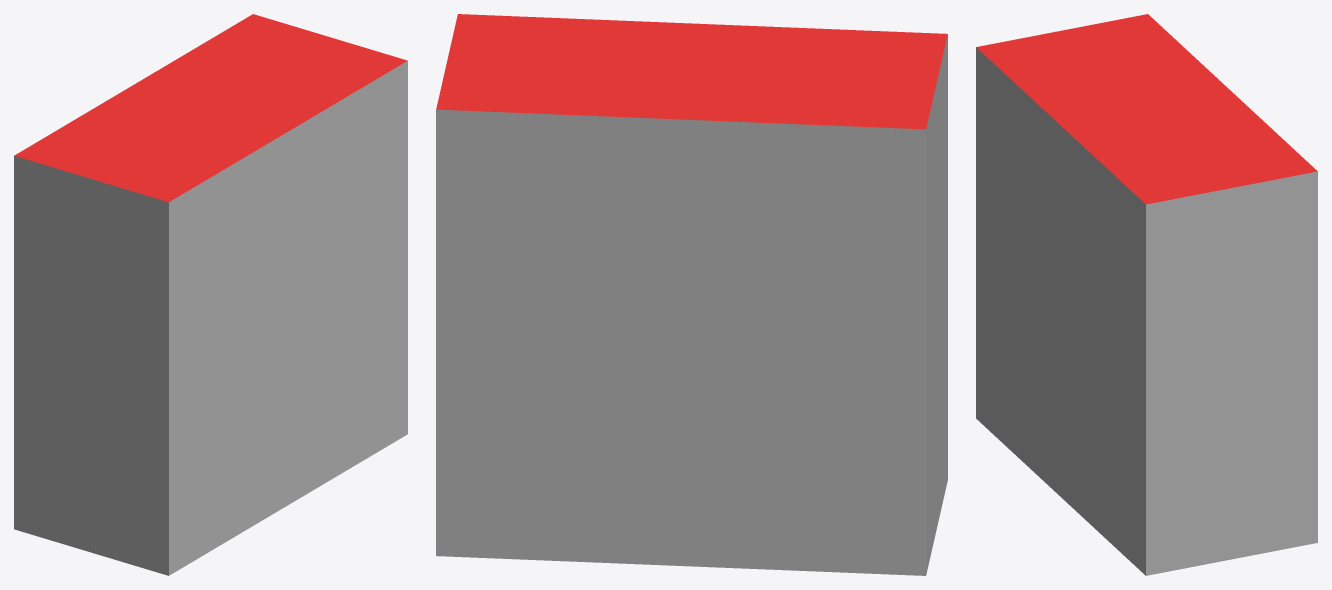
3 renders of one model, left to right at view 1: azimuth 30°, elevation 25°; view 2: azimuth 150°, elevation 25°; view 3: azimuth 270°, elevation 25°, orthographic. The views are drawn at different scales.
Bounding box in the file's own units: 14.32 × 10.85 × 13.01.
